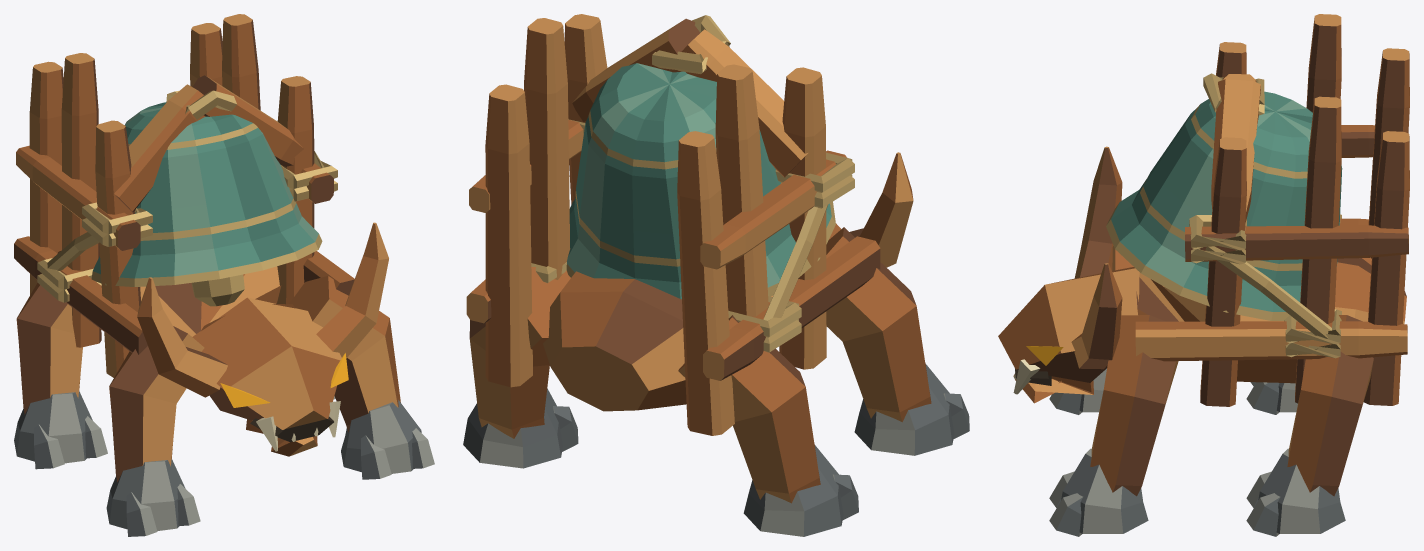
The model's file is bellback-study-v2.glb.
3 renders of one model, left to right at view 1: azimuth 30°, elevation 25°; view 2: azimuth 150°, elevation 25°; view 3: azimuth 270°, elevation 25°, orthographic. The views are drawn at different scales.
Parts seen in each view (by area): view 1: Hollow cast bell, Pointed timber head, Left fore timber leg, Upright -1 1, Right fore timber leg, Left hind timber leg, Upright -1 0, Upright -1 2, Swept timber horn, Swept timber horn.001, Lower rail -1, Arch left (+27 smaller); view 2: Hollow cast bell, Barrel timber hull, Upright 1 2, Upright -1 2, Left fore timber leg, Upright 1 1, Left hind timber leg, Upright -1 1, Upright -1 0, Lower rail -1, Right hind timber leg, Upper rail -1 (+18 smaller); view 3: Hollow cast bell, Right fore timber leg, Lower rail 1, Right hind timber leg, Pointed timber head, Upright 1 2, Upright 1 0, Upright 1 1, Upper rail 1, Barrel timber hull, Right fore stone foot, Right hind stone foot (+20 smaller).
Boxes of the visible parts, box(x1,y1,x2,y2) form: Hollow cast bell: box(91, 102, 322, 286); Pointed timber head: box(192, 297, 341, 429); Left fore timber leg: box(109, 326, 204, 482); Upright -1 1: box(61, 53, 101, 347); Right fore timber leg: box(289, 276, 400, 432); Left hind timber leg: box(16, 251, 82, 414); Upright -1 0: box(95, 120, 140, 377); Upright -1 2: box(29, 61, 63, 294); Swept timber horn: box(137, 277, 227, 397); Swept timber horn.001: box(316, 222, 388, 358); Lower rail -1: box(14, 236, 147, 354); Arch left: box(114, 84, 205, 211); Hollow cast bell: box(566, 63, 835, 299); Barrel timber hull: box(543, 271, 772, 411); Upright 1 2: box(485, 84, 532, 387); Upright -1 2: box(677, 131, 734, 435); Left fore timber leg: box(826, 227, 931, 422); Upright 1 1: box(524, 18, 570, 279); Left hind timber leg: box(678, 315, 820, 503); Upright -1 1: box(715, 64, 768, 316); Upright -1 0: box(779, 67, 826, 369); Lower rail -1: box(703, 236, 880, 380); Right hind timber leg: box(469, 267, 570, 438); Upper rail -1: box(700, 150, 846, 269); Hollow cast bell: box(1106, 91, 1342, 320); Right fore timber leg: box(1090, 315, 1178, 496); Lower rail 1: box(1135, 321, 1407, 361); Right hind timber leg: box(1287, 315, 1373, 496); Pointed timber head: box(998, 267, 1139, 382); Upright 1 2: box(1363, 131, 1409, 405); Upright 1 0: box(1200, 137, 1246, 406); Upright 1 1: box(1295, 96, 1341, 403); Upper rail 1: box(1185, 225, 1408, 261); Barrel timber hull: box(1136, 258, 1406, 383); Right fore stone foot: box(1061, 448, 1148, 533); Right hind stone foot: box(1258, 448, 1345, 533).
Bounding box in the file's own units: 2.98 × 3.5 × 3.26.
